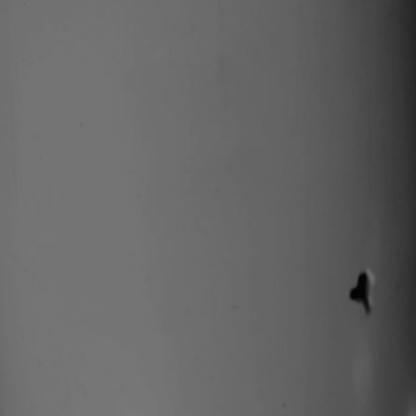kongdong: (344, 264, 384, 319)
